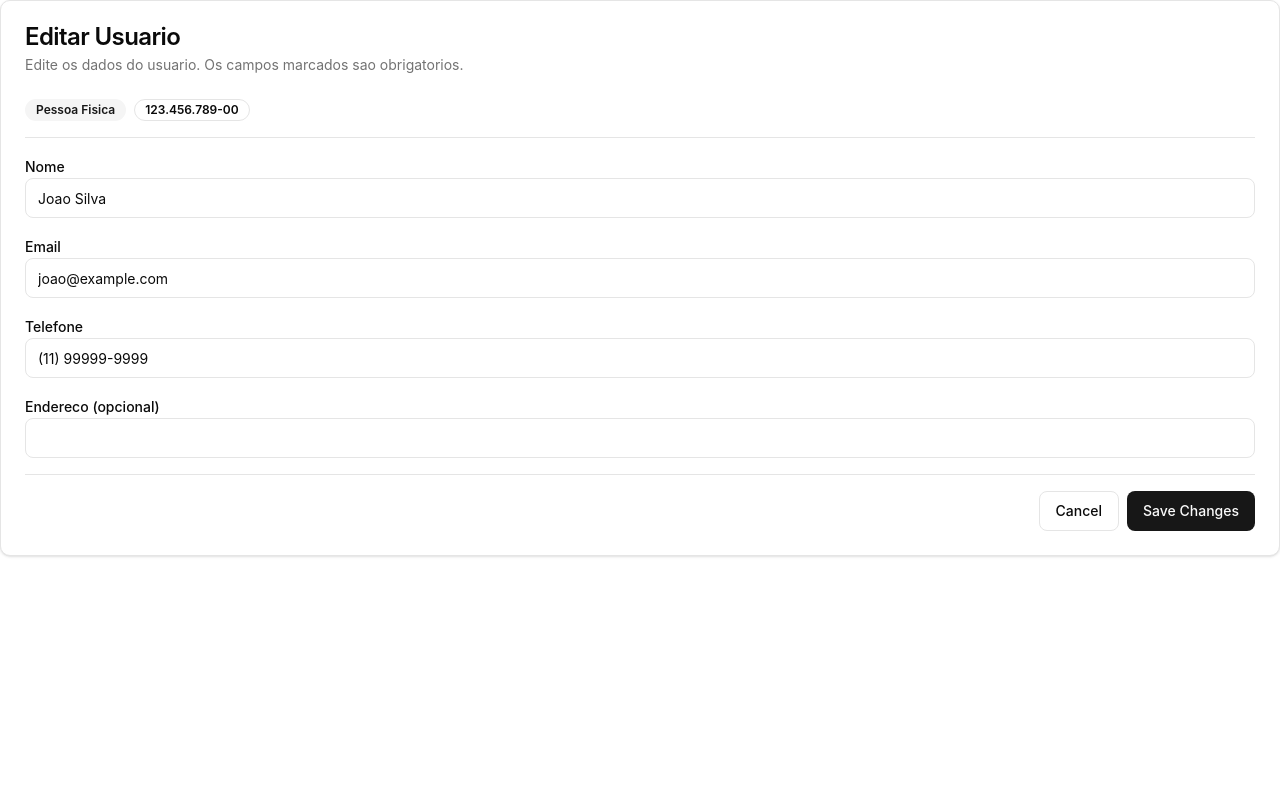
Test: EditUserForm › shows validation errors for invalid email
Replace the text in the field labelled "Email" with "not-an-email": (640, 278) [25,258,1255,298]
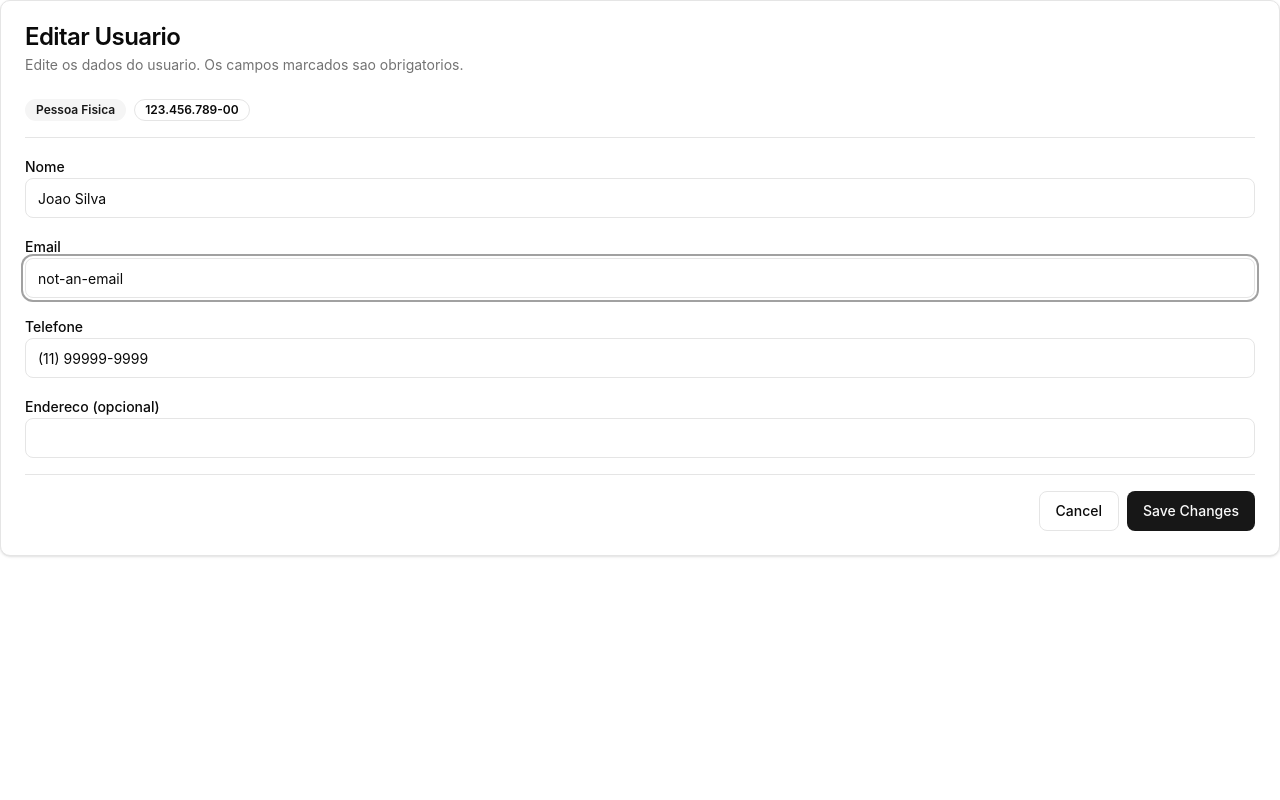
Click the button "Save Changes": click(1191, 511) [1127,491,1255,531]
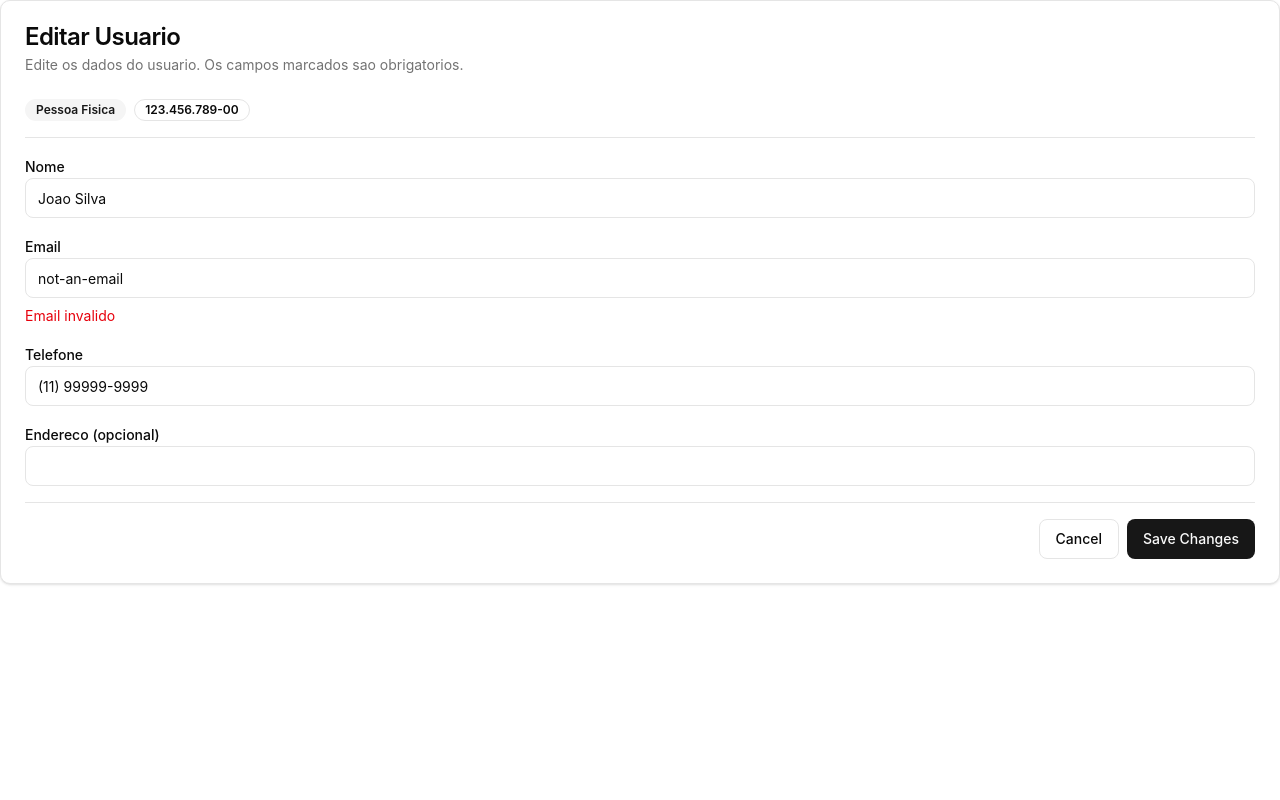
Now the text "Email invalido" is shown, box [25,307,115,324]
